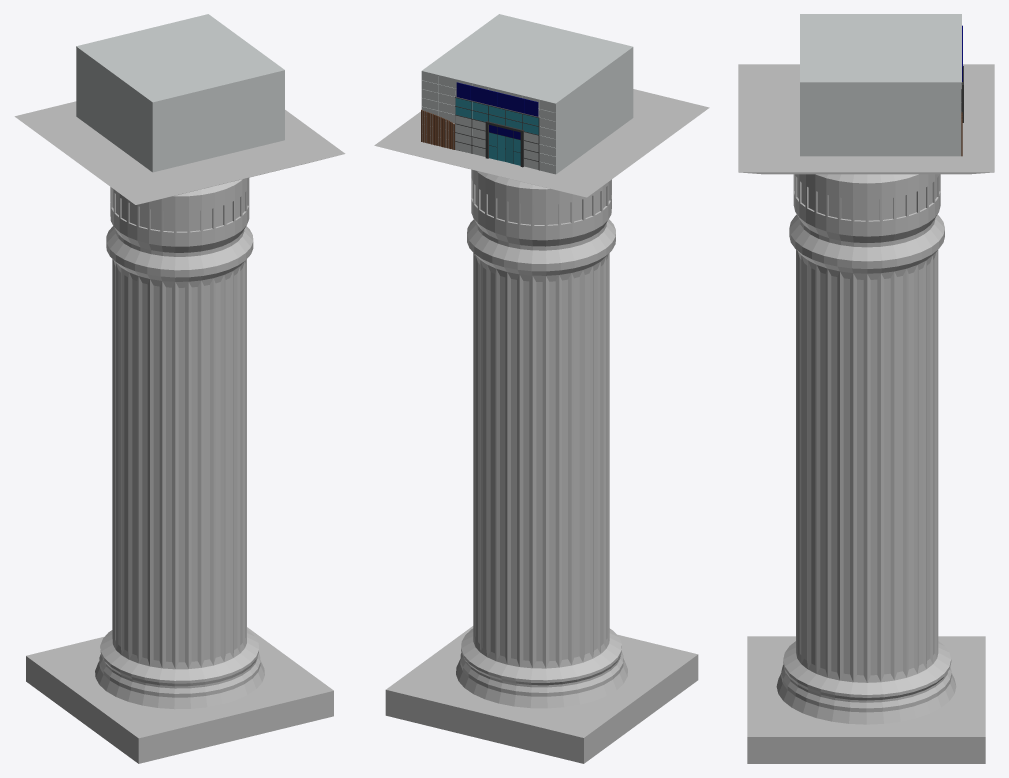
File: pillarElkjop.glb
The picture shows the model from 3 angles, left to right: view 1: azimuth 30°, elevation 25°; view 2: azimuth 150°, elevation 25°; view 3: azimuth 270°, elevation 25°; orthographic projection. The views are drawn at different scales.
Parts seen in each view (by area): view 1: Circle, Cube; view 2: Circle, Cube; view 3: Circle, Cube.
Boxes of the visible parts, bbox=[...] form: Circle: bbox=[14, 101, 345, 763]; Cube: bbox=[76, 14, 284, 172]; Circle: bbox=[374, 89, 709, 763]; Cube: bbox=[421, 14, 633, 174]; Circle: bbox=[738, 64, 994, 763]; Cube: bbox=[800, 14, 963, 156].
Bounding box in the file's own units: 2.84 × 8.18 × 2.84.
